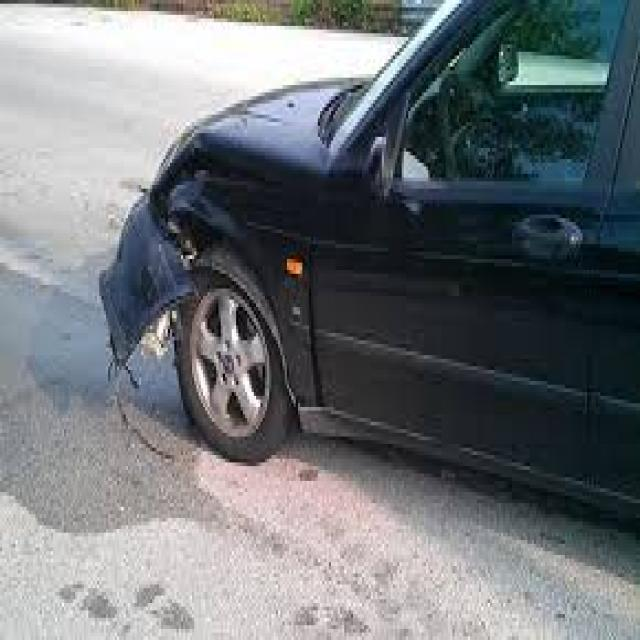minor: (78, 129, 411, 382)
